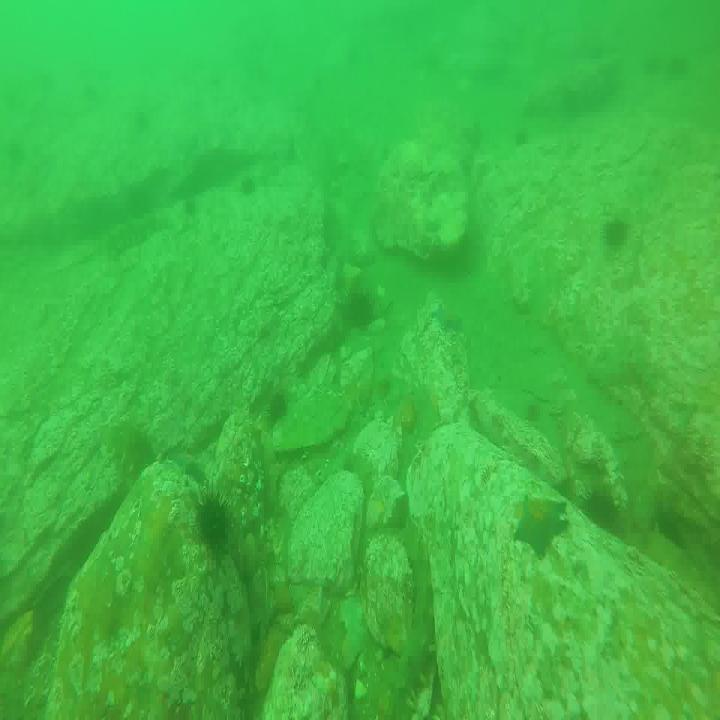echinus: (197, 487, 232, 549), (584, 484, 622, 541), (346, 289, 372, 331), (602, 218, 628, 249), (266, 392, 289, 425)
holothurian: (397, 595, 442, 704)
starfish: (512, 492, 567, 558), (430, 303, 464, 335)
